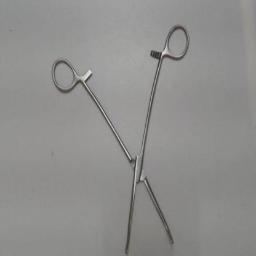Lahey Forceps: (42, 17, 192, 255)
